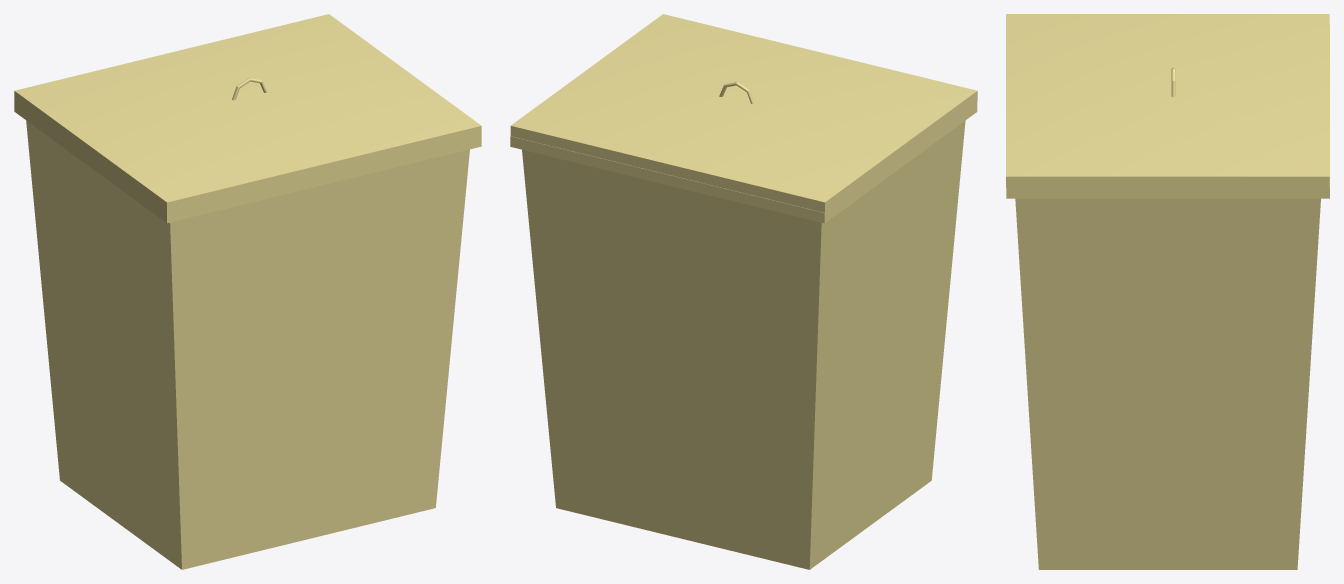
The model's file is SM_Trashcan.fbx.
3 renders of one model, left to right at view 1: azimuth 30°, elevation 25°; view 2: azimuth 150°, elevation 25°; view 3: azimuth 270°, elevation 25°, orthographic. The views are drawn at different scales.
Visible parts, largest first — view 1: trash_bin_002.003, trash_bin_002_1_.003; view 2: trash_bin_002.003, trash_bin_002_1_.003; view 3: trash_bin_002.003, trash_bin_002_1_.003.
Boxes of the visible parts, x1,y1,x2,y2 form: trash_bin_002.003: [14, 101, 481, 569]; trash_bin_002_1_.003: [14, 14, 481, 212]; trash_bin_002.003: [510, 102, 977, 569]; trash_bin_002_1_.003: [510, 14, 977, 212]; trash_bin_002.003: [1006, 25, 1329, 569]; trash_bin_002_1_.003: [1006, 14, 1329, 187].
Size of the model in its own units: 31.41 by 39.46 by 26.45.
